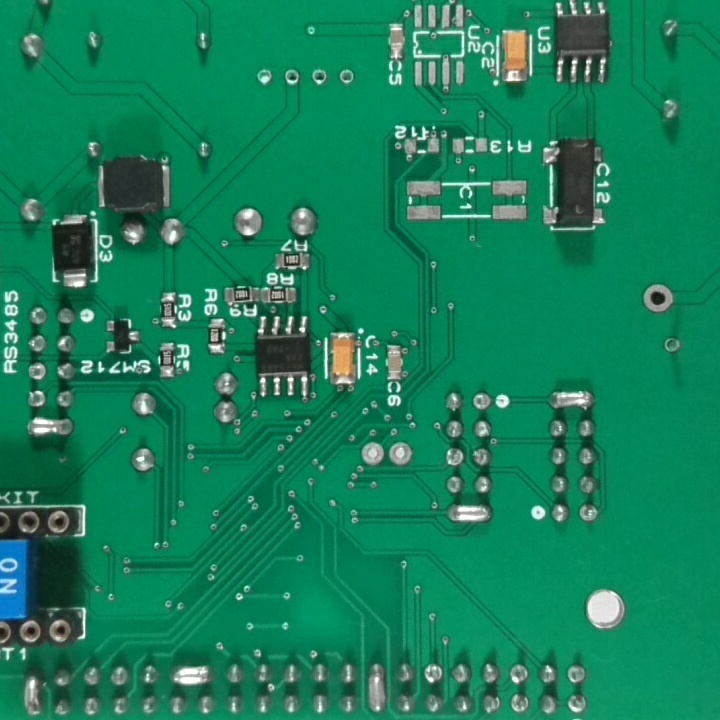F: (640, 279, 675, 316), (387, 441, 415, 472), (358, 439, 384, 467), (421, 660, 444, 689), (576, 500, 601, 526), (24, 360, 49, 385), (508, 691, 532, 715), (470, 390, 493, 415), (443, 446, 464, 471), (564, 692, 587, 714), (661, 335, 683, 357), (283, 67, 304, 90), (253, 66, 276, 86), (337, 68, 357, 89), (310, 69, 330, 87)
P: (442, 498, 495, 527), (364, 660, 387, 718), (547, 386, 593, 414), (23, 413, 76, 437), (170, 662, 213, 691), (20, 670, 45, 717)
